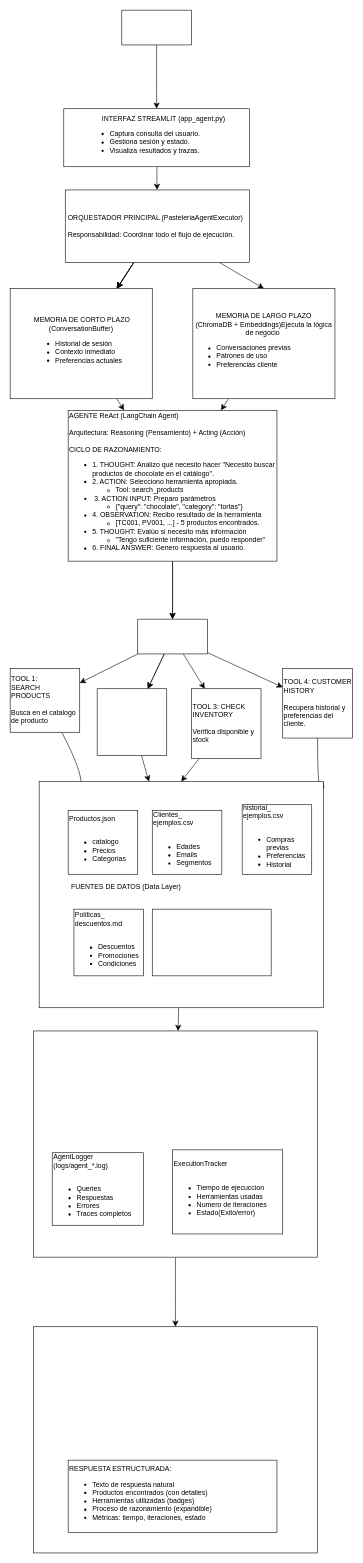
Image size: 363x1563. Some labels were removed from this diagram. The shapes that lost their labels are listed below. From the top down, each one's box as (x1, y1, x2, y2) in pixels, then its label:
(121, 10, 191, 45): Usuario/Cliente "Muéstrame tortas de chocolate"
(137, 619, 207, 654): SELECTOR DE HERRAMIENTAS
(97, 688, 167, 755): TOOL 2: CALCULATE DISCOUNT Calcula descuentos aplicables
(152, 909, 271, 976): faqs.json Preguntas freq. Respuestas Politicas
(33, 1030, 318, 1257): SISTEMA DE LOGGING Y TRACKING
(33, 1326, 318, 1553): RESPUESTA AL USUARIO
